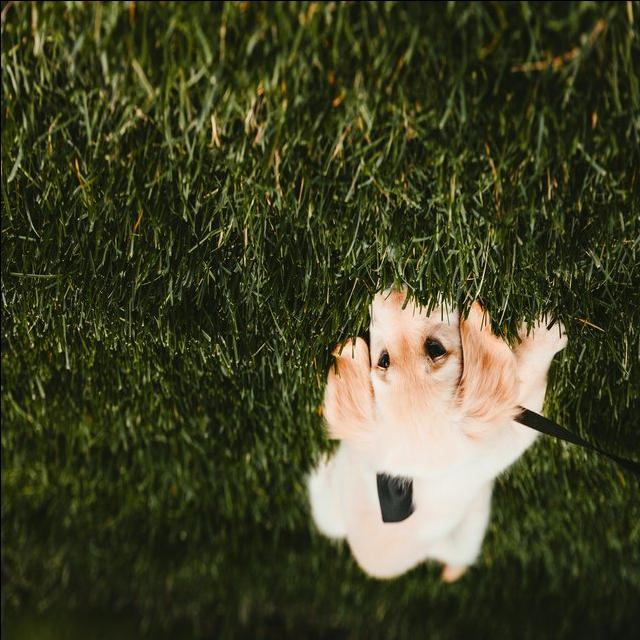retriever: (306, 282, 569, 584)
